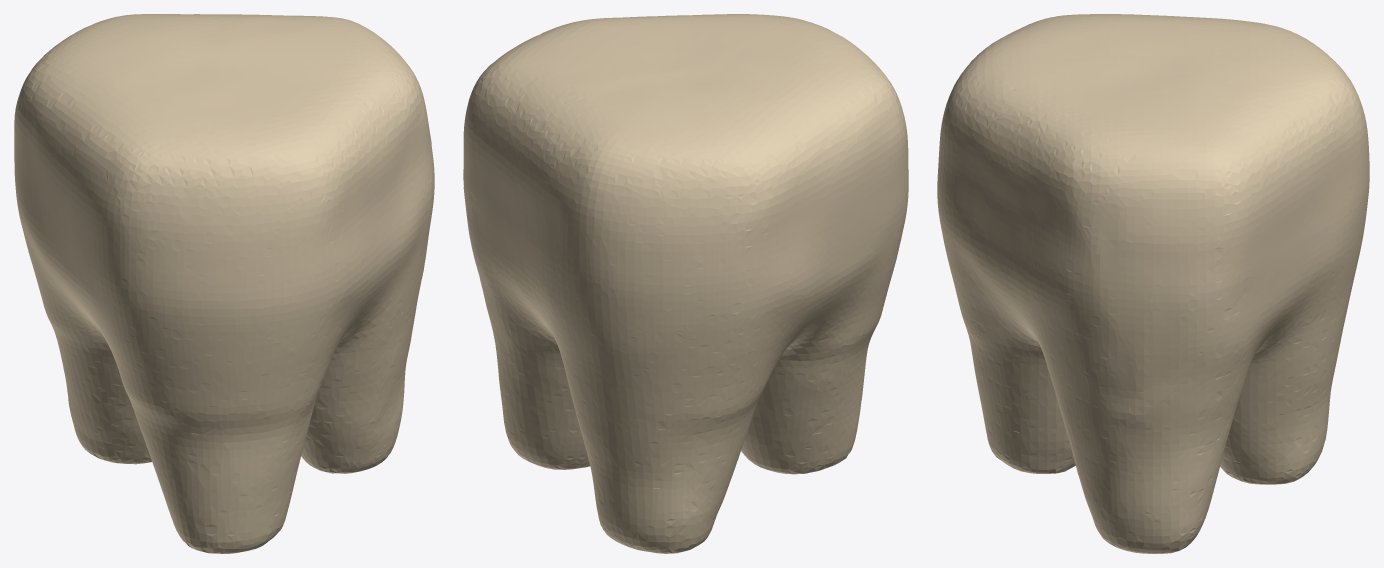
File: stolform-06.glb
3 views of the same model, side by side, from view 1: azimuth 30°, elevation 25°; view 2: azimuth 150°, elevation 25°; view 3: azimuth 270°, elevation 25° (orthographic).
Parts seen in each view (by area): view 1: stolform-06; view 2: stolform-06; view 3: stolform-06.
Part boxes in pixels (left/top/right/bottom): stolform-06: left=14, top=14, right=434, bottom=553; stolform-06: left=463, top=14, right=908, bottom=553; stolform-06: left=937, top=14, right=1369, bottom=553.
Size of the model in its own units: 0.906 by 0.9999 by 0.9442.
